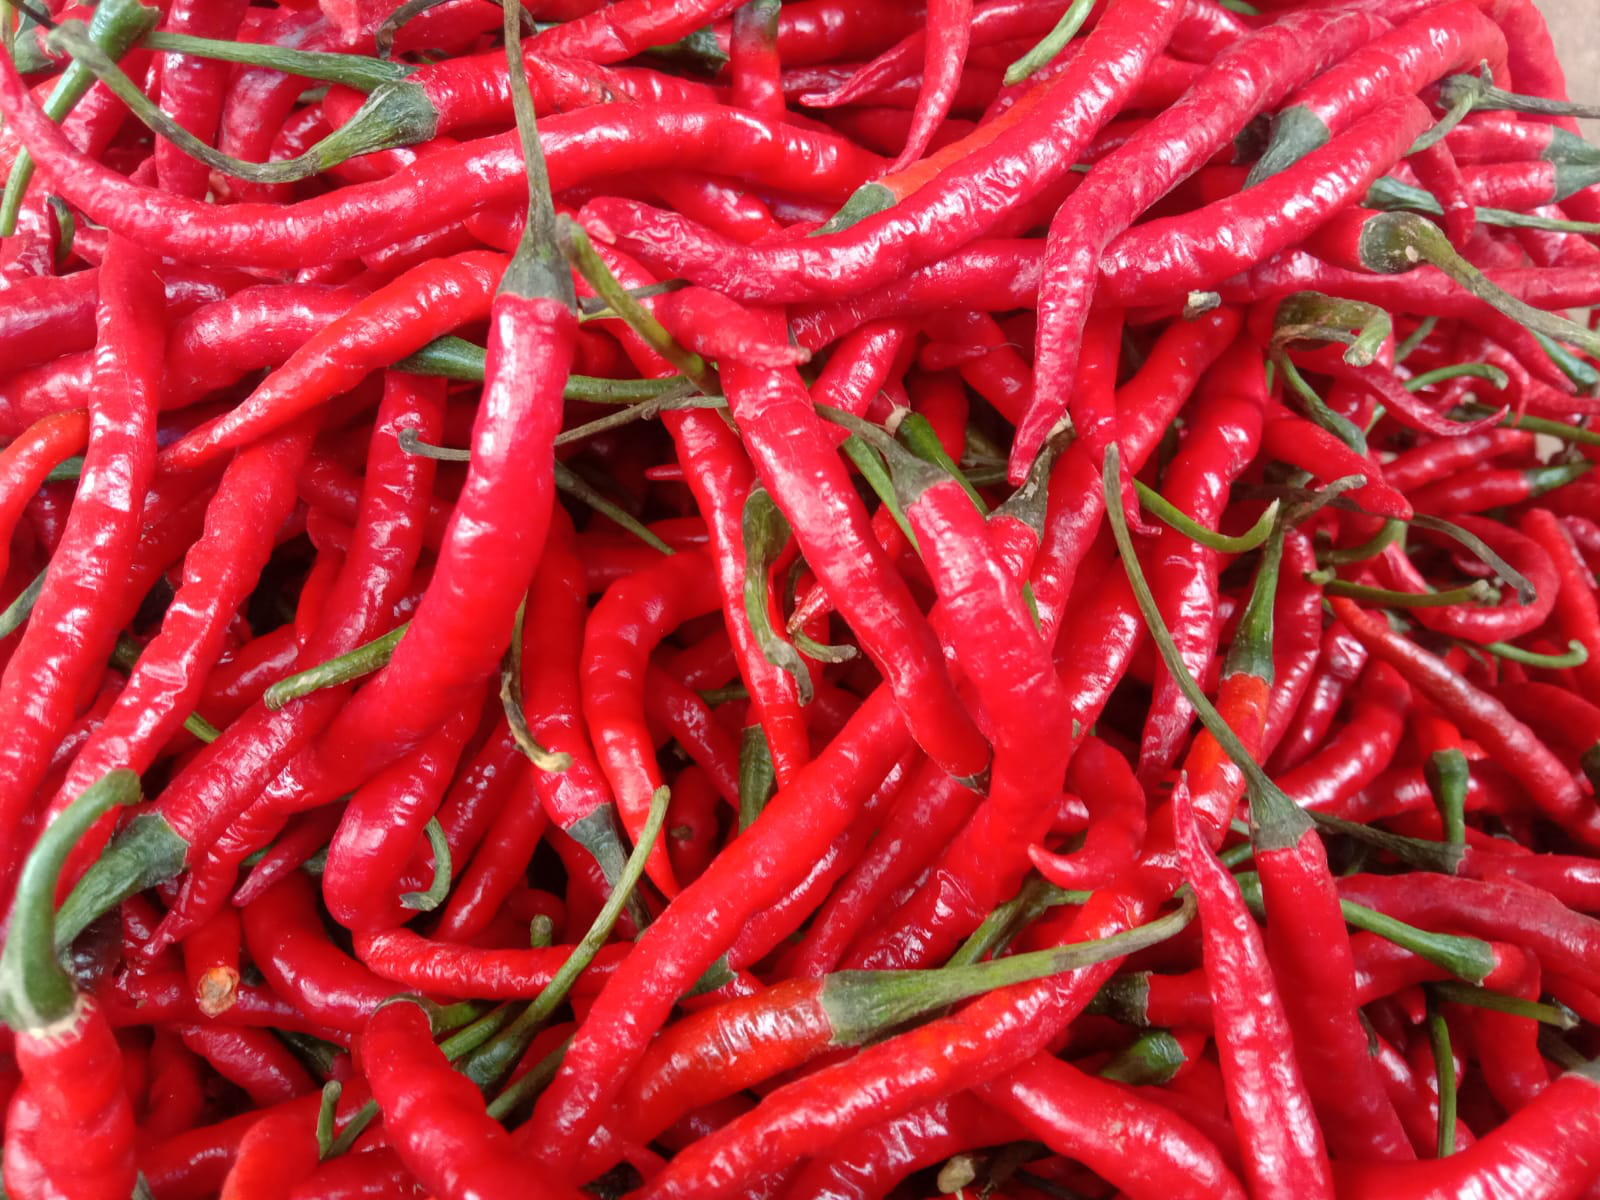Cabai: (214, 105, 1330, 1053)
